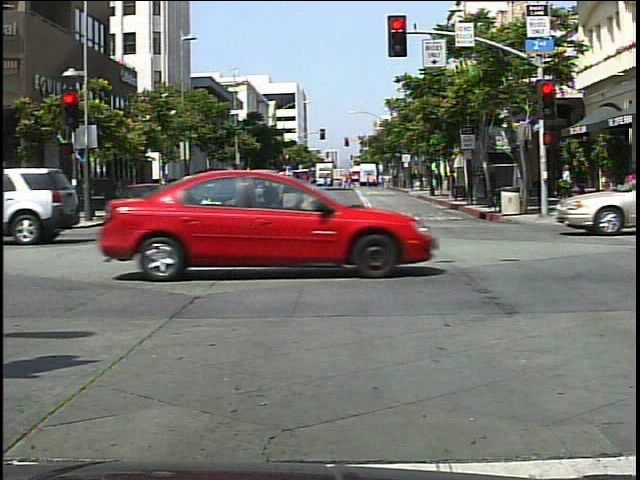person: (55, 171, 87, 235), (555, 162, 578, 213), (620, 166, 639, 195)
